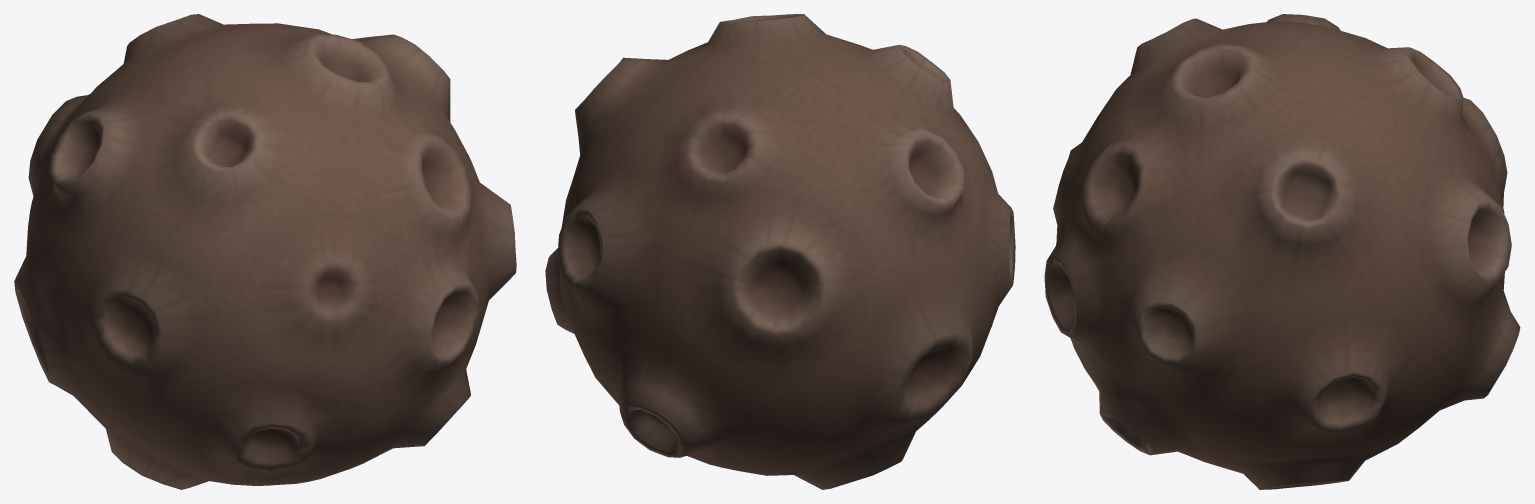
The picture shows the model from 3 angles, left to right: view 1: azimuth 30°, elevation 25°; view 2: azimuth 150°, elevation 25°; view 3: azimuth 270°, elevation 25°; orthographic projection. The views are drawn at different scales.
Parts seen in each view (by area): view 1: Meteor_Meteor_0; view 2: Meteor_Meteor_0; view 3: Meteor_Meteor_0.
Part boxes in pixels (x1,y1,x2,y2): Meteor_Meteor_0: [14, 14, 516, 489]; Meteor_Meteor_0: [545, 14, 1015, 489]; Meteor_Meteor_0: [1044, 14, 1520, 489].
Size of the model in its own units: 0.795 by 0.7899 by 0.7964.
1 material, 1 textured.
